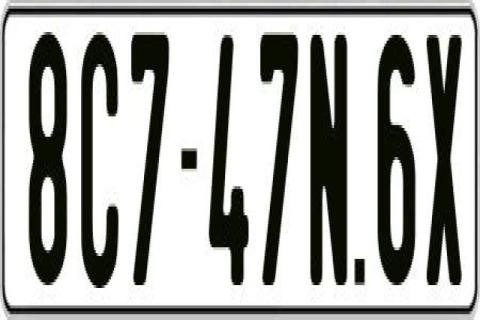0: (206, 29, 250, 288), (378, 32, 421, 296), (257, 27, 300, 286), (131, 26, 174, 276), (28, 24, 66, 288)
C: (81, 29, 124, 282)
N: (310, 29, 348, 279)
X: (427, 26, 463, 276)
